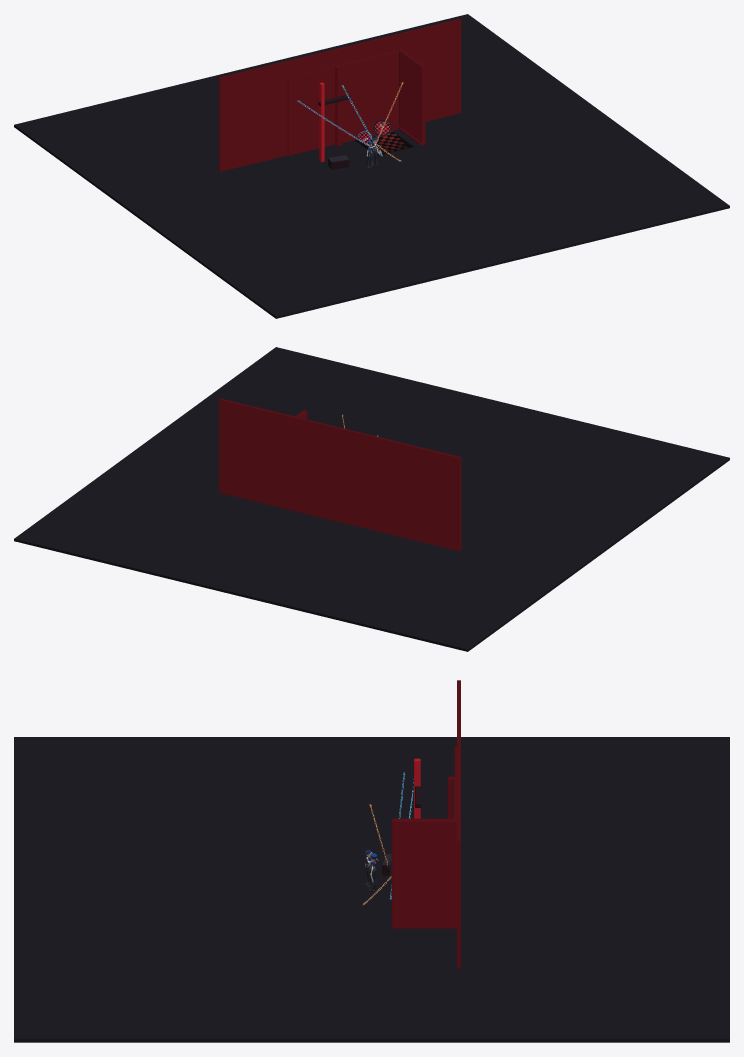
3 renders of one model, top to bottom at view 1: azimuth 30°, elevation 25°; view 2: azimuth 150°, elevation 25°; view 3: azimuth 270°, elevation 25°, orthographic. The views are drawn at different scales.
Visible parts, largest first — view 1: Ground | retained room-base floor, Rear shell | retained room-base wall, Rear | red ring wall, Rear | black negative space, Right return | corridor wall, Ground | right rear projected gobo, Rear | center pilaster; view 2: Ground | retained room-base floor, Rear shell | retained room-base wall; view 3: Ground | retained room-base floor, Right return | corridor wall, Rear shell | retained room-base wall.
Part boxes in pixels (<box>): Ground | retained room-base floor: <box>14,14,729,318</box>; Rear shell | retained room-base wall: <box>219,18,461,171</box>; Rear | red ring wall: <box>340,50,398,142</box>; Rear | black negative space: <box>287,65,340,155</box>; Right return | corridor wall: <box>398,48,425,145</box>; Ground | right rear projected gobo: <box>355,132,413,155</box>; Rear | center pilaster: <box>334,64,341,146</box>; Ground | retained room-base floor: <box>14,347,729,651</box>; Rear shell | retained room-base wall: <box>219,398,461,551</box>; Ground | retained room-base floor: <box>14,737,729,1042</box>; Right return | corridor wall: <box>391,818,456,928</box>; Rear shell | retained room-base wall: <box>457,680,460,968</box>.
Size of the model in its own units: 26 by 5.24 by 26.
41 materials, 6 textured.
